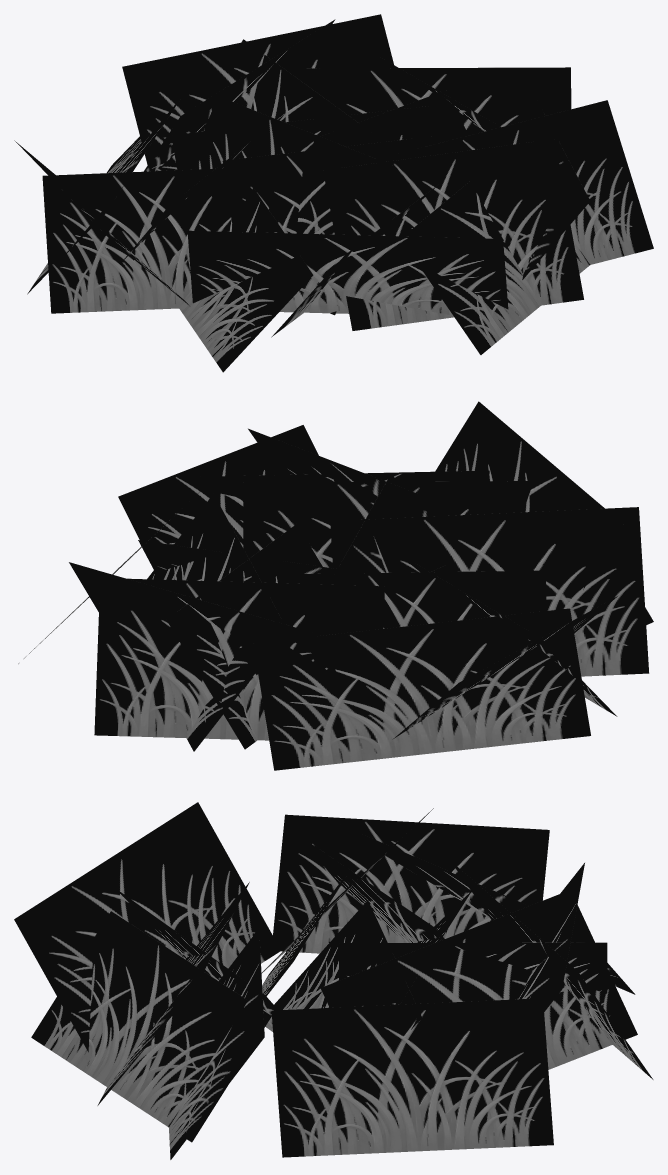
The model's file is Grass02.fbx.
3 renders of one model, top to bottom at view 1: azimuth 30°, elevation 25°; view 2: azimuth 150°, elevation 25°; view 3: azimuth 270°, elevation 25°, orthographic. The views are drawn at different scales.
Parts seen in each view (by area): view 1: Grass02_LOD0; view 2: Grass02_LOD0; view 3: Grass02_LOD0.
Part boxes in pixels (x1,y1,x2,y2): Grass02_LOD0: (14, 14, 653, 372); Grass02_LOD0: (18, 401, 653, 770); Grass02_LOD0: (14, 802, 653, 1159).
Size of what is drawn, in the model's own units: 1.01 by 0.2219 by 0.9827.
